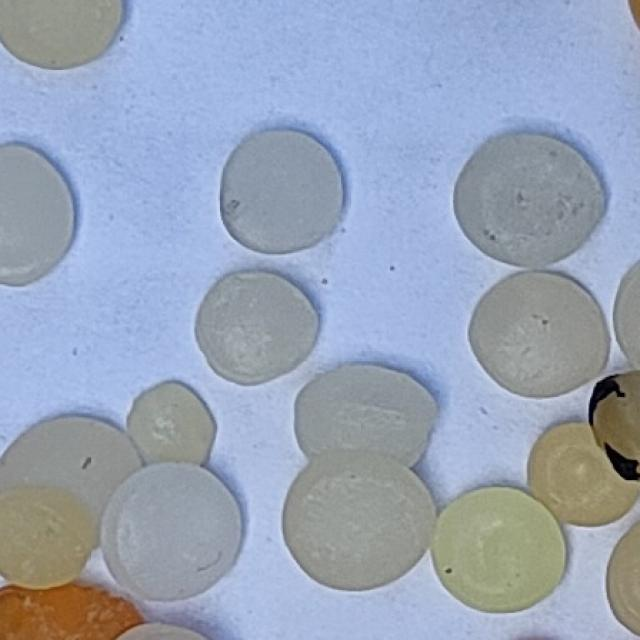beads: (431, 101, 627, 298), (451, 245, 631, 424), (274, 444, 442, 603), (175, 247, 335, 408), (0, 393, 151, 541), (101, 465, 241, 603), (431, 486, 569, 617), (221, 130, 344, 254), (295, 364, 439, 467), (0, 144, 74, 285), (0, 487, 96, 590), (127, 383, 216, 465), (1, 1, 1, 1)
